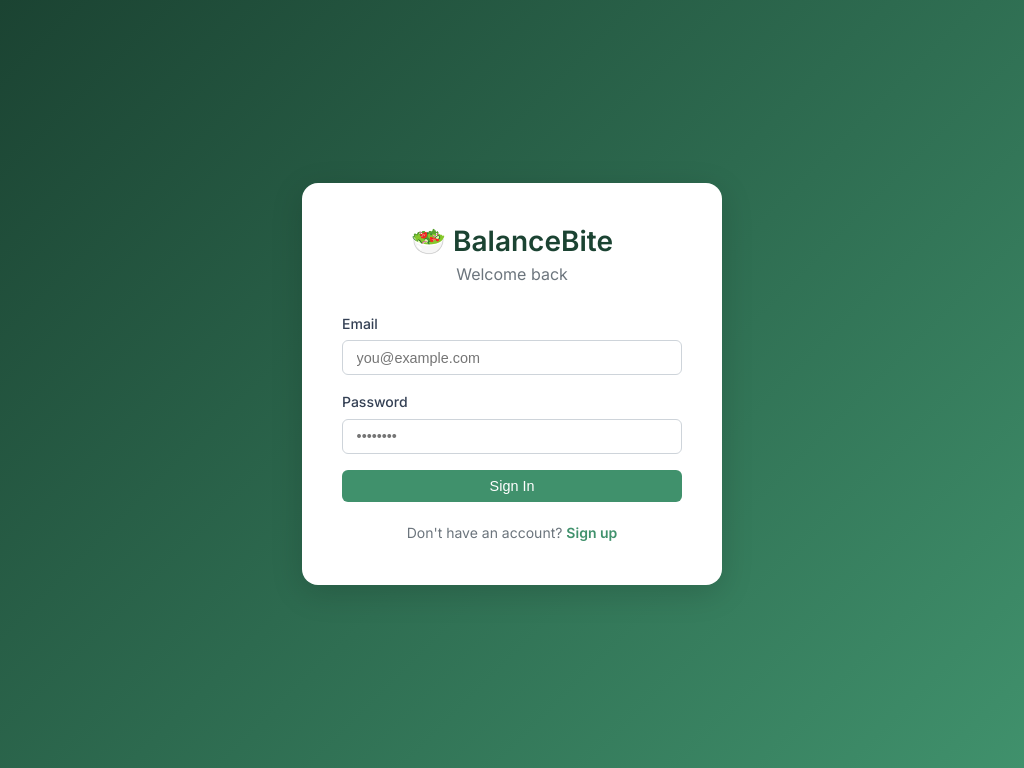
Test: Login page › shows an error when login fails with wrong credentials
This screenshot has width=1024, height=768.
Type "user@test.com" into the field labelled "Email" at point(512, 358), box [342,340,682,375]
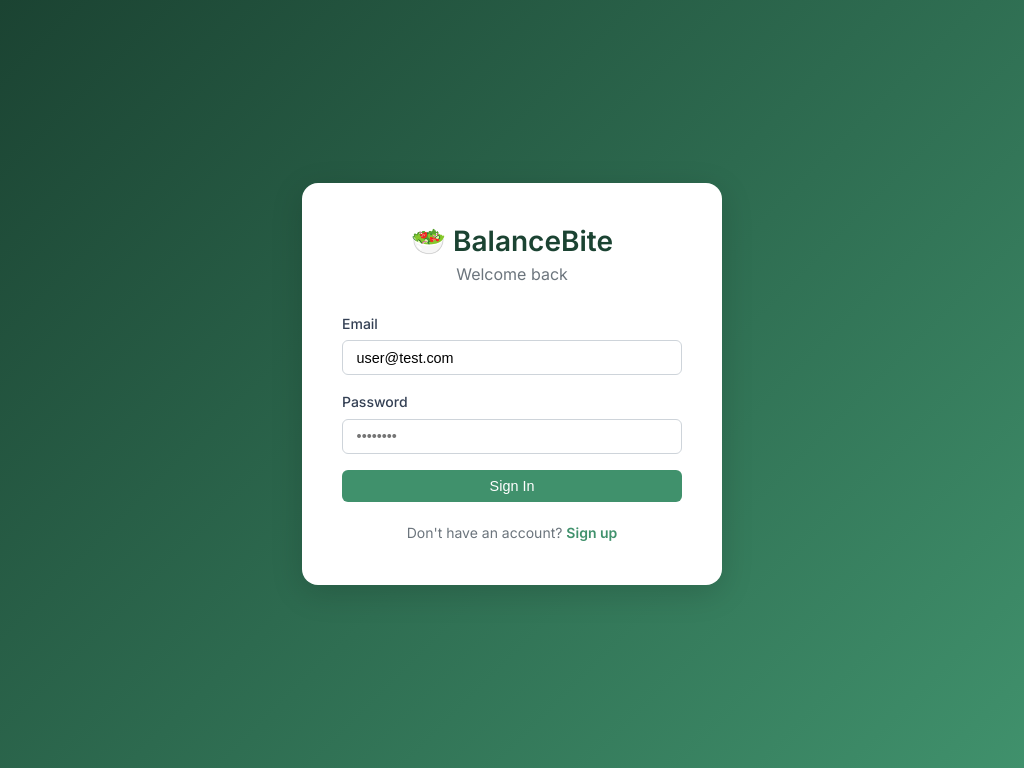
Type "wrongpass" into the password field labelled "Password" at point(512, 436), box [342,419,682,454]
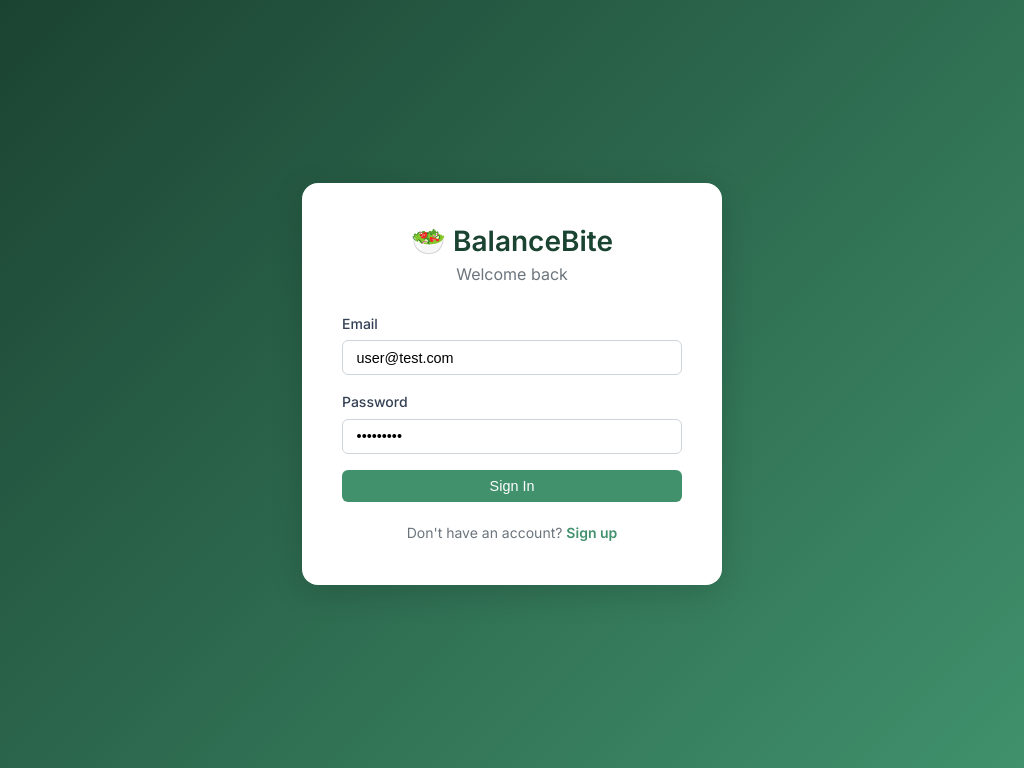
Click the button "Sign In" at point(512, 486), box [342,470,682,502]
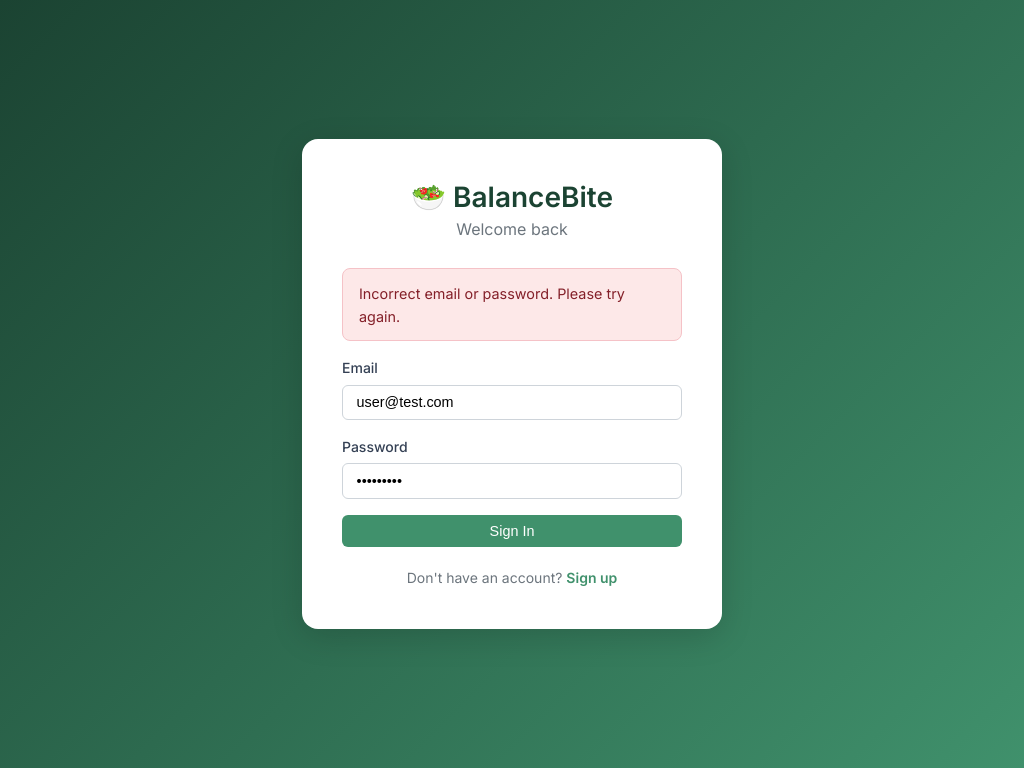
Expected: the message shows "Incorrect email or password", [359,285,625,325]
